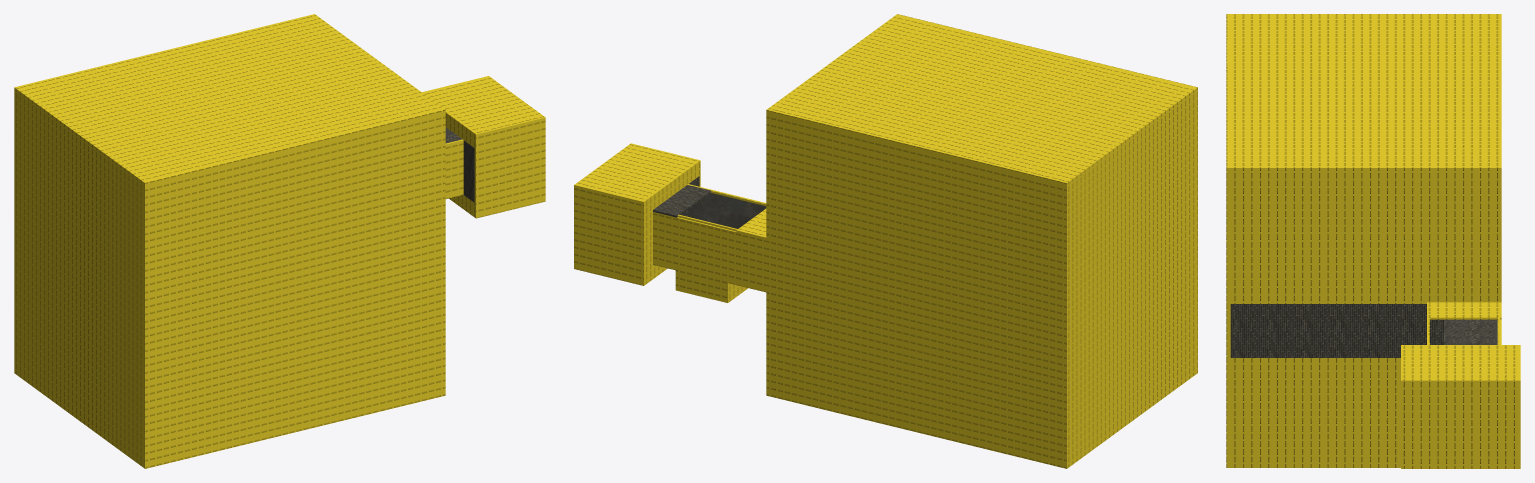
The model's file is basement.vmf.obj.
3 views of the same model, side by side, from view 1: azimuth 30°, elevation 25°; view 2: azimuth 150°, elevation 25°; view 3: azimuth 270°, elevation 25° (orthographic). The views are drawn at different scales.
Visible parts, largest first — view 1: 45, 33, 44, 11, 4, 46, 26, 8; view 2: 26, 33, 44, 10, 28, 4, 46, 45, 21, 145, 3; view 3: 33, 18, 20, 17, 5, 4, 45, 34, 2, 26, 10, 11.
Part boxes in pixels (bbox=[...]): 45: bbox=[143, 108, 445, 468]; 33: bbox=[17, 15, 441, 180]; 44: bbox=[15, 87, 144, 466]; 11: bbox=[474, 116, 545, 218]; 4: bbox=[423, 77, 542, 134]; 46: bbox=[445, 139, 463, 198]; 26: bbox=[14, 14, 314, 373]; 8: bbox=[463, 140, 474, 202]; 26: bbox=[766, 109, 1067, 468]; 33: bbox=[769, 16, 1193, 181]; 44: bbox=[1066, 88, 1195, 467]; 10: bbox=[574, 184, 644, 285]; 28: bbox=[653, 212, 766, 290]; 4: bbox=[577, 144, 699, 202]; 46: bbox=[687, 184, 766, 228]; 45: bbox=[895, 14, 1197, 374]; 21: bbox=[677, 269, 726, 300]; 145: bbox=[653, 185, 710, 217]; 3: bbox=[645, 163, 699, 215]; 33: bbox=[1230, 15, 1499, 166]; 18: bbox=[1230, 167, 1499, 303]; 20: bbox=[1230, 358, 1400, 467]; 17: bbox=[1230, 304, 1444, 357]; 5: bbox=[1403, 380, 1517, 466]; 4: bbox=[1403, 345, 1517, 379]; 45: bbox=[1226, 14, 1230, 467]; 34: bbox=[1444, 319, 1497, 344]; 2: bbox=[1429, 302, 1501, 319]; 26: bbox=[1500, 14, 1501, 302]; 10: bbox=[1518, 345, 1520, 468]; 11: bbox=[1401, 345, 1403, 468].
Bounding box in the file's own units: 1109 × 626 × 556.
Materials: 6 (6 with a texture image).
